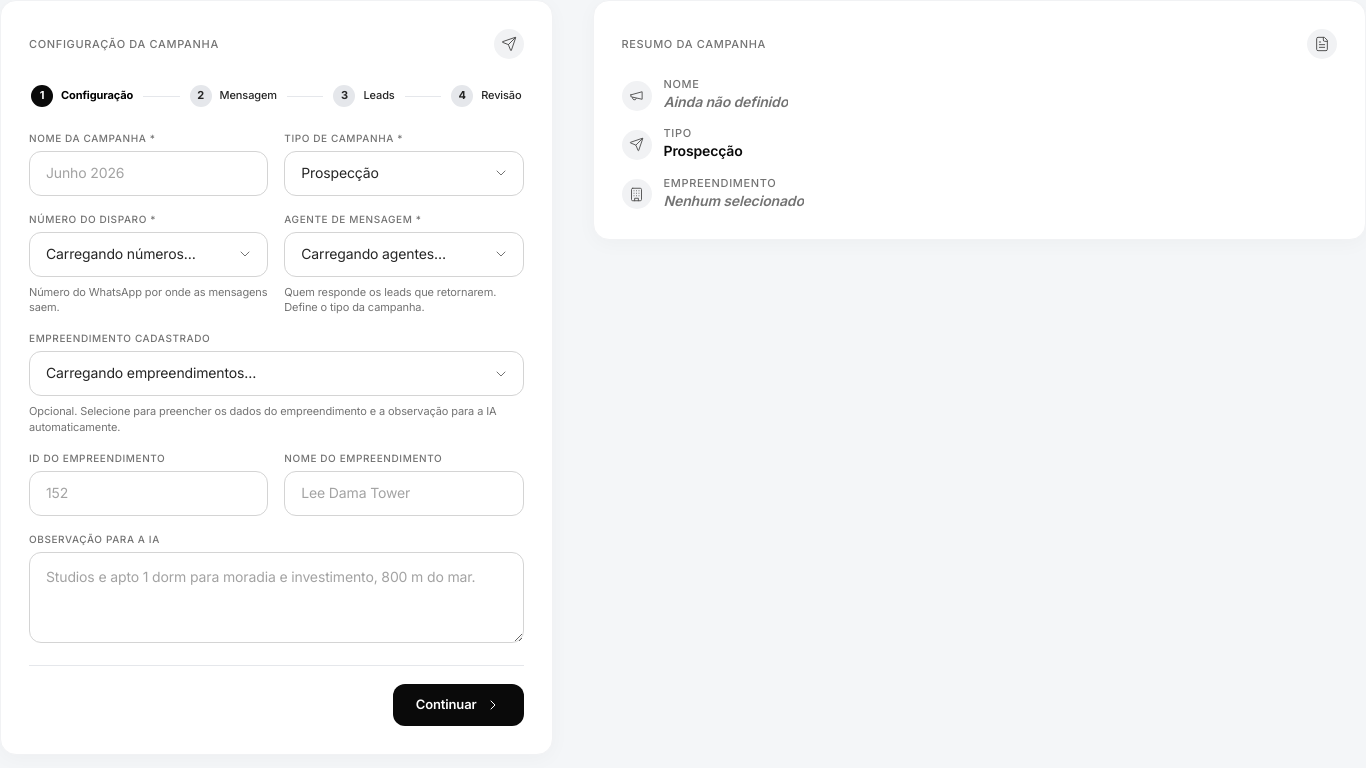
Test: DispatchForm › bloqueia nome de campanha que já existe e explica o que fazer
Type "Convite - Villa di Como" into the field labelled "Nome da campanha *". click: (149,173)
box: [29,151,268,196]
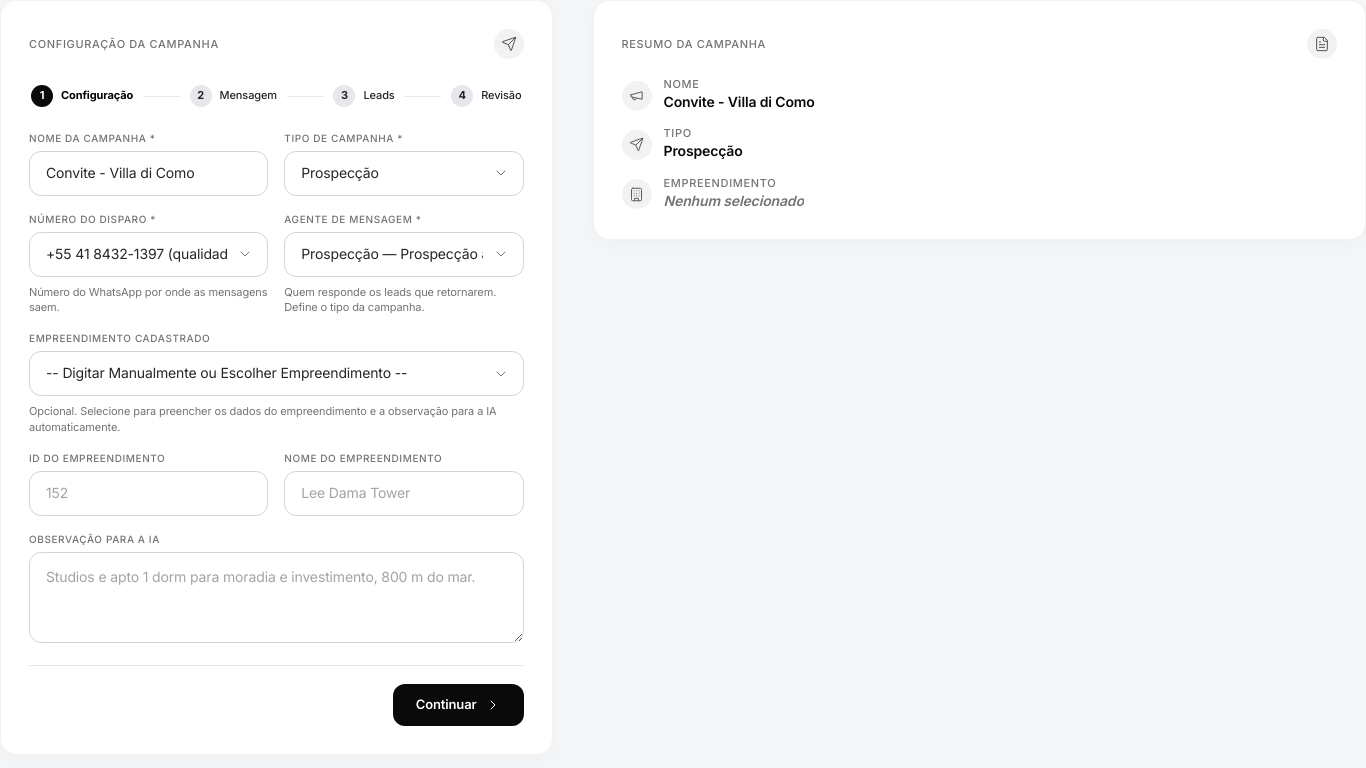
Expected: the dropdown labelled "Número do disparo *" shows "+55 41 8432-1397 (qualidade GREEN)", [29,232,268,277]
Click the button "Continuar". click: (458,705)
box: [393,684,524,726]
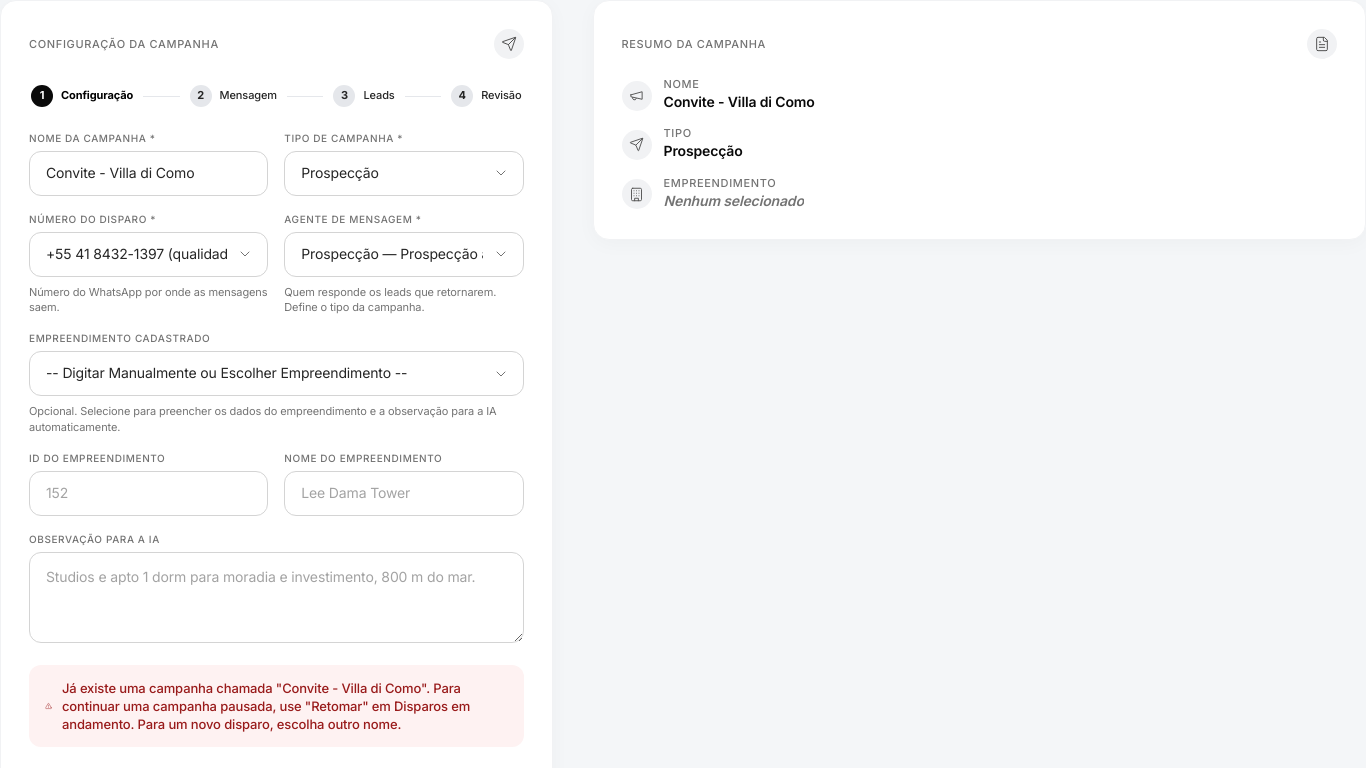
Expected: the text "use \"Retomar\"" is shown, [62,680,470,732]
